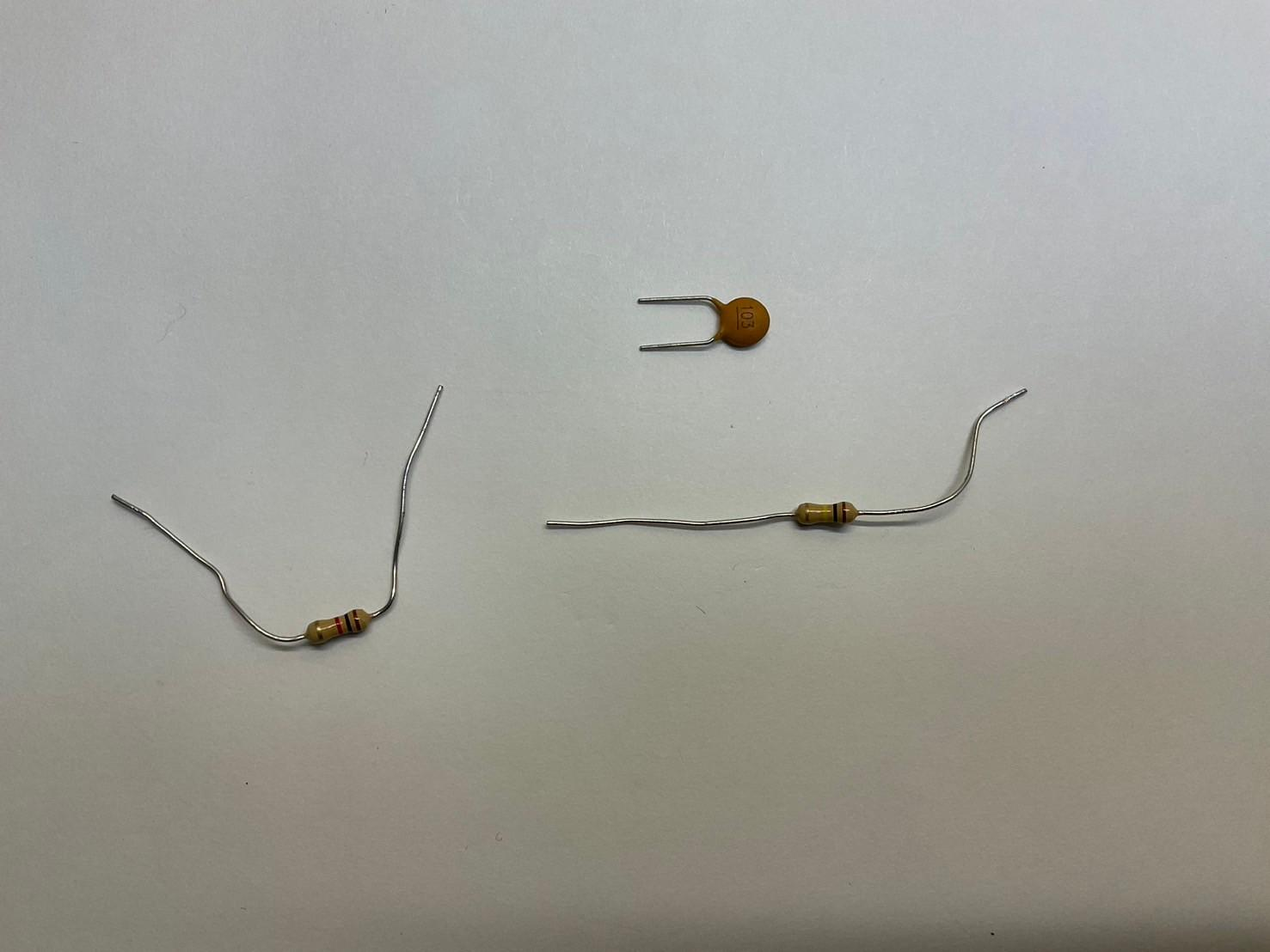resistor: (295, 604, 377, 649), (785, 504, 866, 532)
